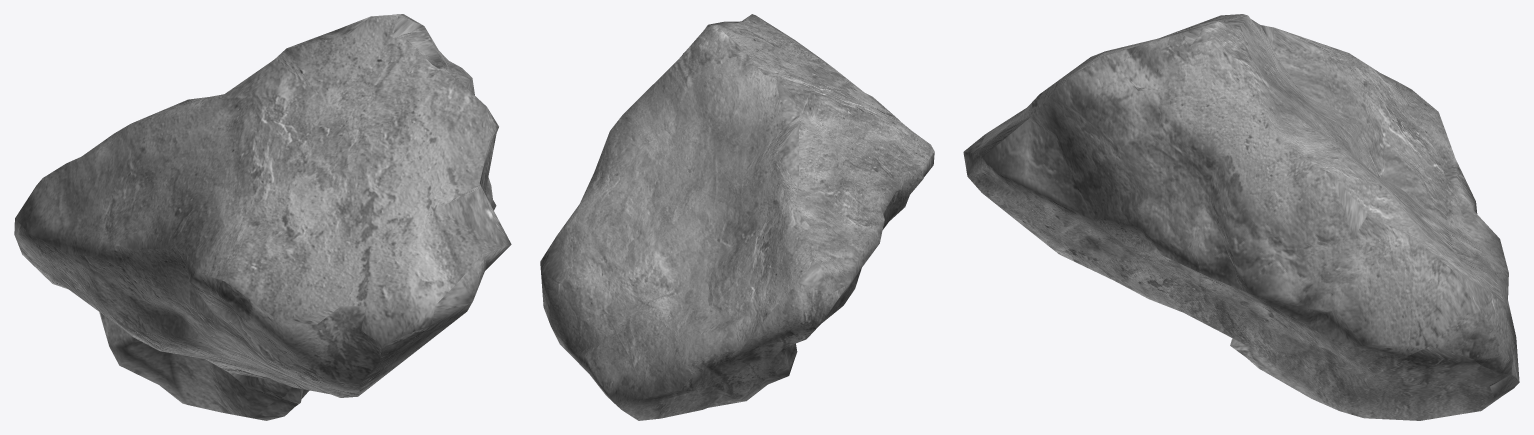
Rendered from rock model.glb.
3 views of the same model, side by side, from view 1: azimuth 30°, elevation 25°; view 2: azimuth 150°, elevation 25°; view 3: azimuth 270°, elevation 25° (orthographic). The views are drawn at different scales.
Visible parts, largest first — view 1: moon_rock_03_LOD3; view 2: moon_rock_03_LOD3; view 3: moon_rock_03_LOD3.
Boxes of the visible parts, left/top/right/bottom form: moon_rock_03_LOD3: left=14, top=14, right=511, bottom=420; moon_rock_03_LOD3: left=540, top=14, right=934, bottom=420; moon_rock_03_LOD3: left=963, top=14, right=1519, bottom=420.
Size of the model in its own units: 33.39 by 34.8 by 43.01.
Materials: 1 (1 with a texture image).
